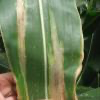Corn leaf blight: (0, 14, 99, 69)
